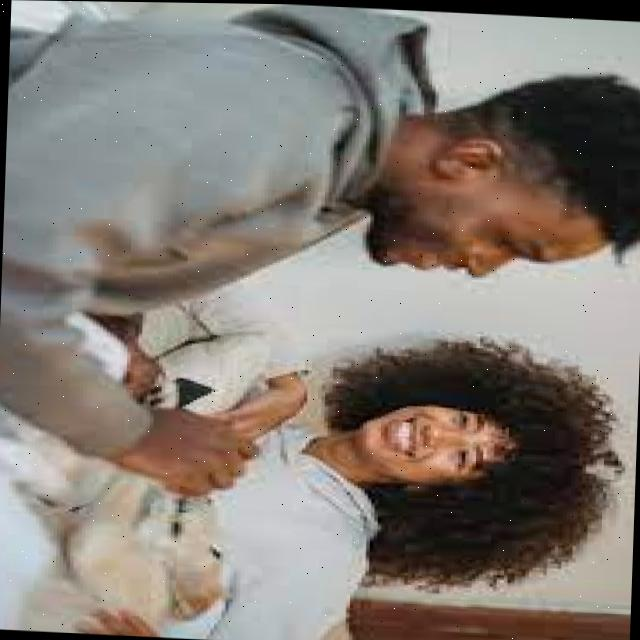Happy: (346, 367, 590, 529)
